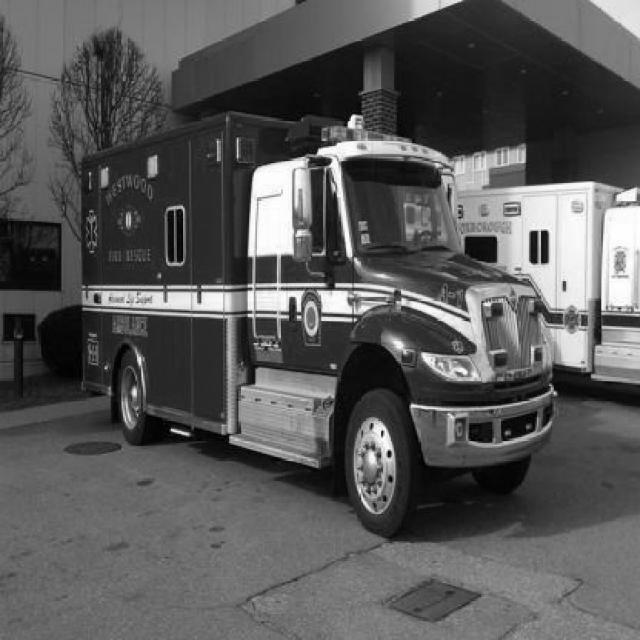Ambulance: (79, 111, 557, 542)
